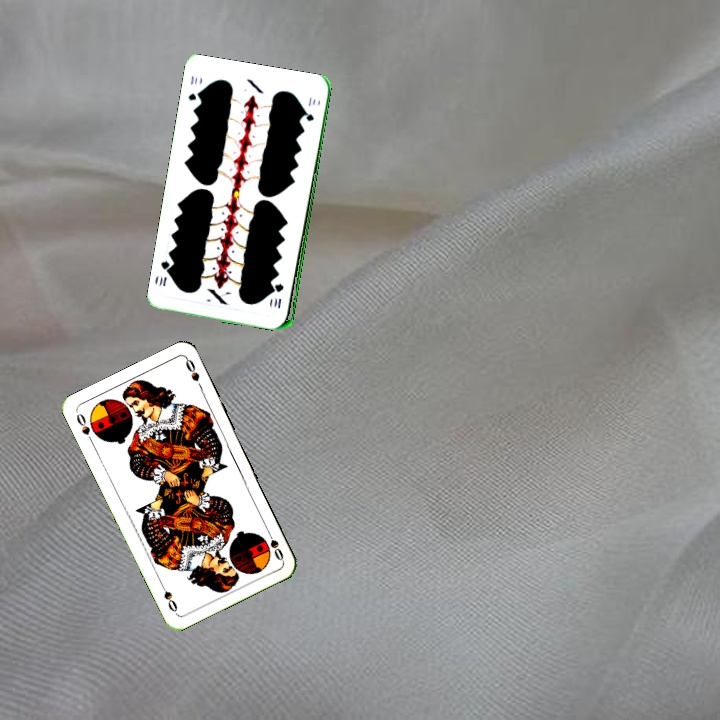G10: (184, 72, 204, 103), (273, 279, 286, 311)
SO: (72, 408, 96, 446), (263, 525, 286, 563)
